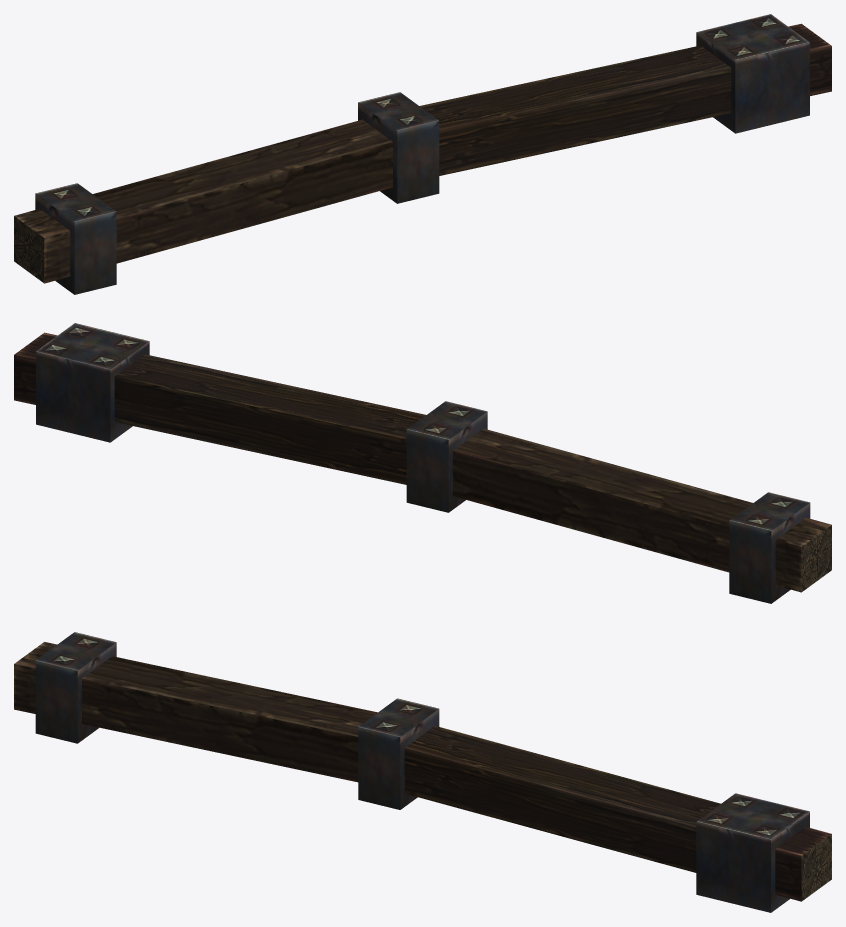
The model's file is B_mutiao001.fbx.
The picture shows the model from 3 angles, top to bottom: view 1: azimuth 30°, elevation 25°; view 2: azimuth 150°, elevation 25°; view 3: azimuth 330°, elevation 25°; orthographic projection.
Parts seen in each view (by area): view 1: B_mutiao001; view 2: B_mutiao001; view 3: B_mutiao001.
Boxes of the visible parts, bbox=[...] form: B_mutiao001: bbox=[14, 14, 831, 294]; B_mutiao001: bbox=[14, 323, 831, 603]; B_mutiao001: bbox=[14, 632, 831, 912].
Size of the model in its own units: 546 by 56.54 by 46.97.
